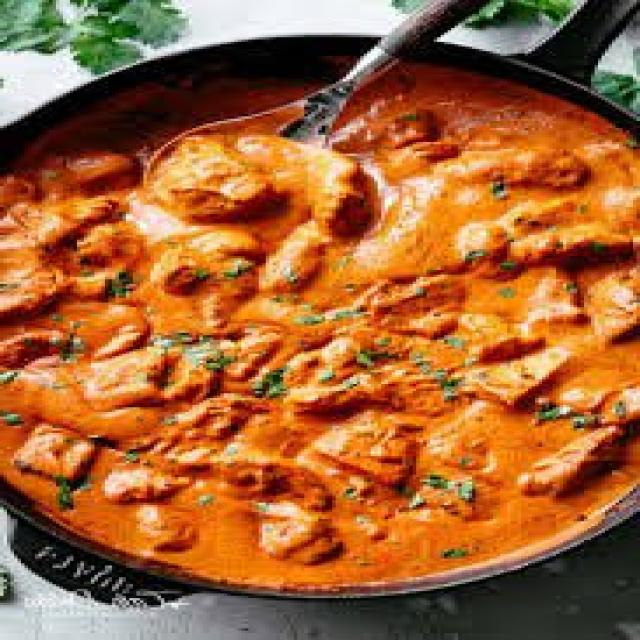Butter Chicken: (0, 48, 637, 590)
